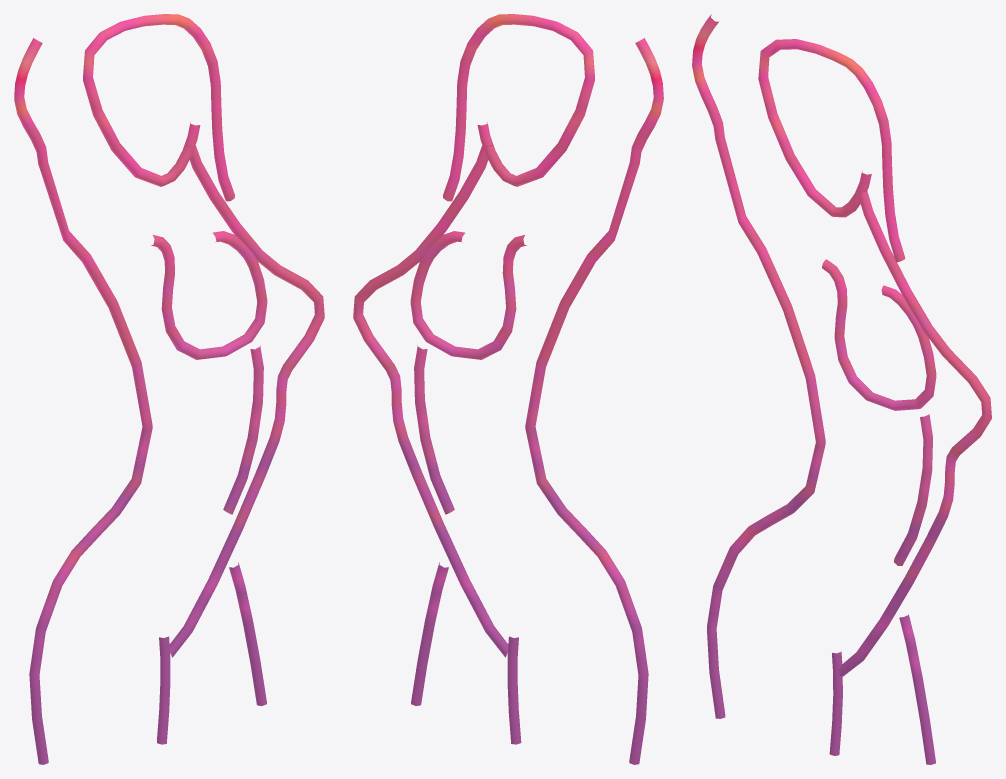
File: 8ed5fb29-50fd-4120-84d2-b1bff6f1f593.glb
3 views of the same model, side by side, from view 1: azimuth 30°, elevation 25°; view 2: azimuth 150°, elevation 25°; view 3: azimuth 330°, elevation 25° (orthographic). The views are drawn at different scales.
Visible parts, largest first — view 1: NeonCeilingTilesNeonLightSclpturesNeonGirl; view 2: NeonCeilingTilesNeonLightSclpturesNeonGirl; view 3: NeonCeilingTilesNeonLightSclpturesNeonGirl.
Boxes of the visible parts, box(x1,y1,x2,y2) form: NeonCeilingTilesNeonLightSclpturesNeonGirl: box(14, 14, 324, 764); NeonCeilingTilesNeonLightSclpturesNeonGirl: box(353, 14, 663, 764); NeonCeilingTilesNeonLightSclpturesNeonGirl: box(692, 14, 991, 764).
Size of what is drawn, in the model's own units: 0.8493 by 1.92 by 0.0237.
Materials: 1 (1 with a texture image).
